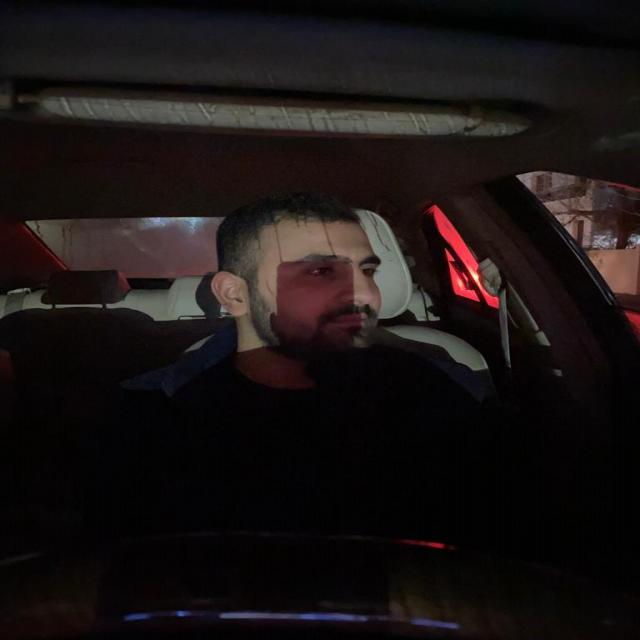LeftRight: (203, 193, 397, 371)
